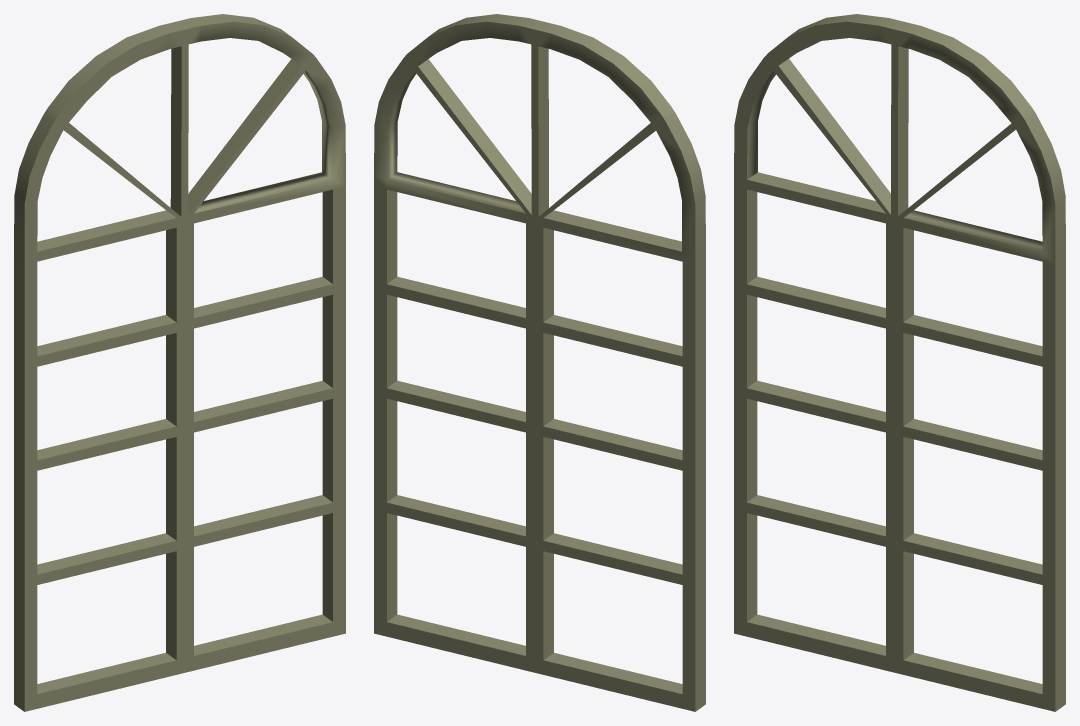
Rendered from Mesh_Ventana_v03.fbx.
3 renders of one model, left to right at view 1: azimuth 30°, elevation 25°; view 2: azimuth 150°, elevation 25°; view 3: azimuth 330°, elevation 25°, orthographic.
Parts seen in each view (by area): view 1: Mesh_Ventana_low_v03; view 2: Mesh_Ventana_low_v03; view 3: Mesh_Ventana_low_v03.
Boxes of the visible parts, left/top/right/bottom form: Mesh_Ventana_low_v03: left=14, top=14, right=345, bottom=711; Mesh_Ventana_low_v03: left=374, top=14, right=705, bottom=711; Mesh_Ventana_low_v03: left=734, top=14, right=1065, bottom=711.
Size of the model in its own units: 2.4 by 4.59 by 0.1346.
